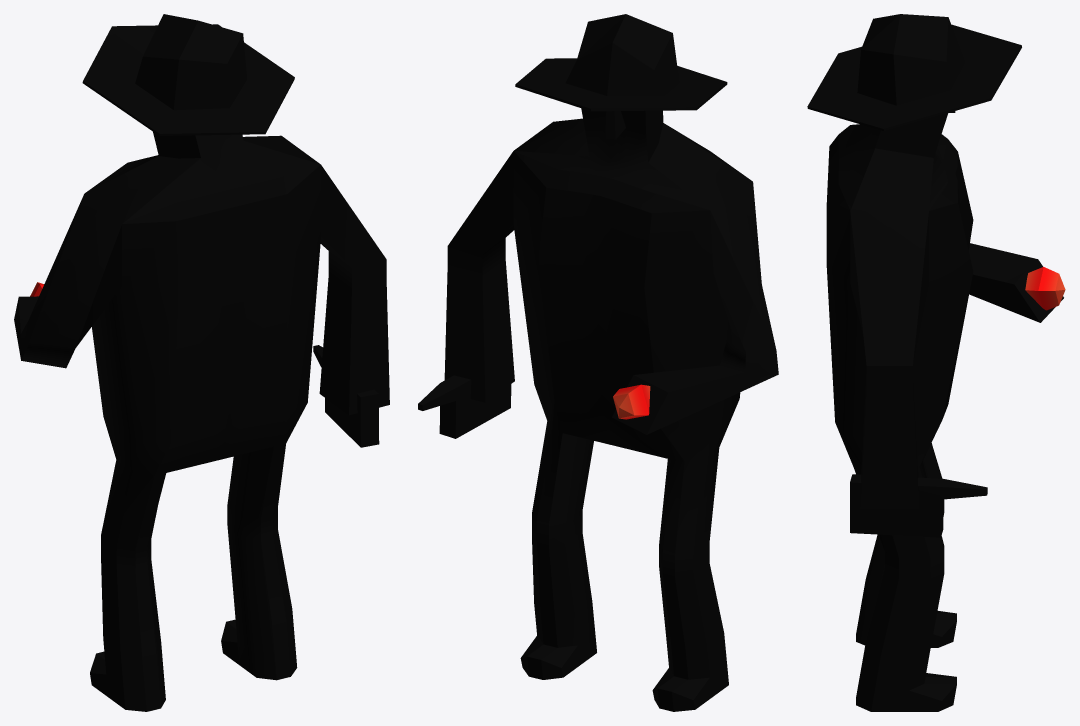
File: ranger_mesh.fbx
The picture shows the model from 3 angles, left to right: view 1: azimuth 30°, elevation 25°; view 2: azimuth 150°, elevation 25°; view 3: azimuth 270°, elevation 25°; orthographic projection.
Visible parts, largest first — view 1: ranger; view 2: ranger; view 3: ranger.
Part boxes in pixels (<box>): ranger: <box>14,14,389,711</box>; ranger: <box>418,14,778,711</box>; ranger: <box>807,14,1065,711</box>.
Size of the model in its own units: 0.6454 by 1.21 by 0.4293.
